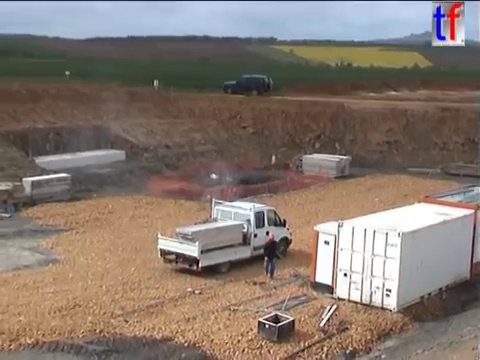truck: (156, 196, 295, 275)
worker: (261, 231, 282, 280)
